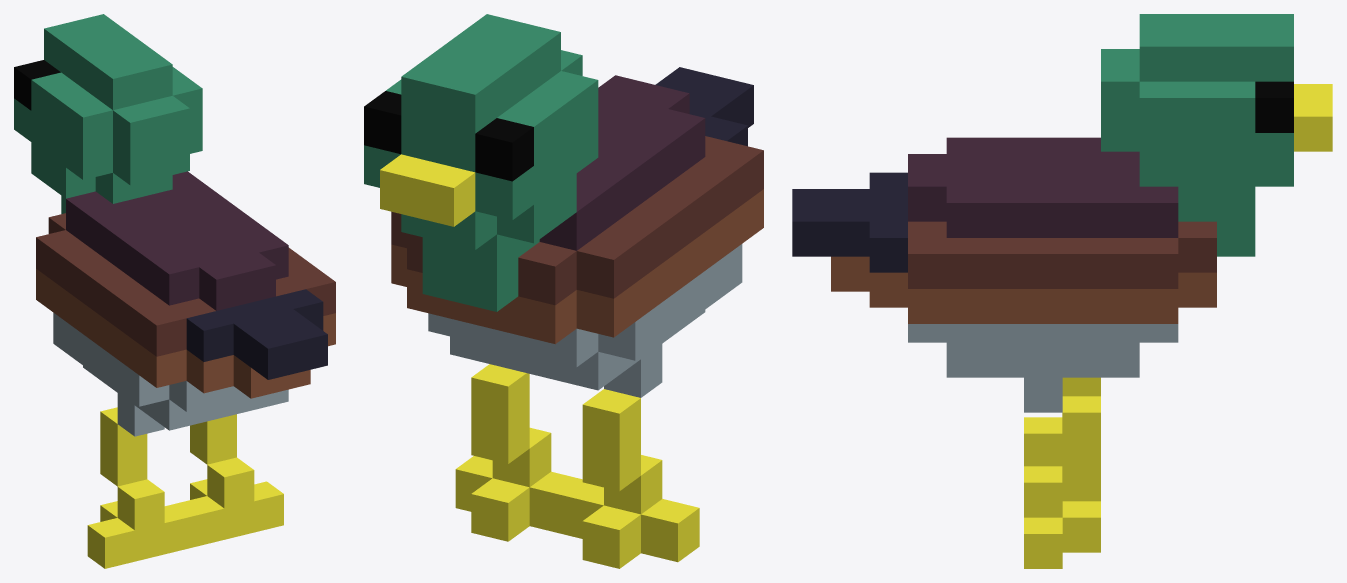
File: duck0.gltf
The picture shows the model from 3 angles, left to right: view 1: azimuth 30°, elevation 25°; view 2: azimuth 150°, elevation 25°; view 3: azimuth 270°, elevation 25°; orthographic projection. The views are drawn at different scales.
Bounding box in the file's own units: 6 × 14 × 14.
Materials: 1 (1 with a texture image).
